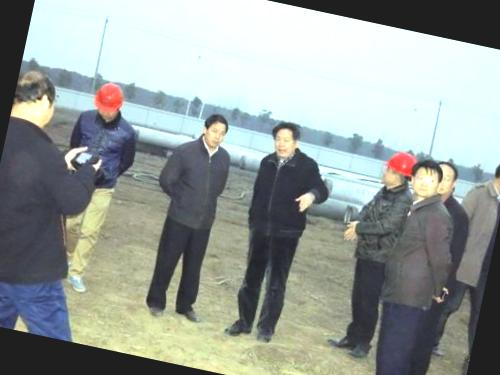no_helmet: (8, 62, 60, 136), (410, 152, 448, 204), (264, 116, 304, 161), (196, 108, 233, 152), (428, 156, 461, 202), (486, 151, 500, 196)
